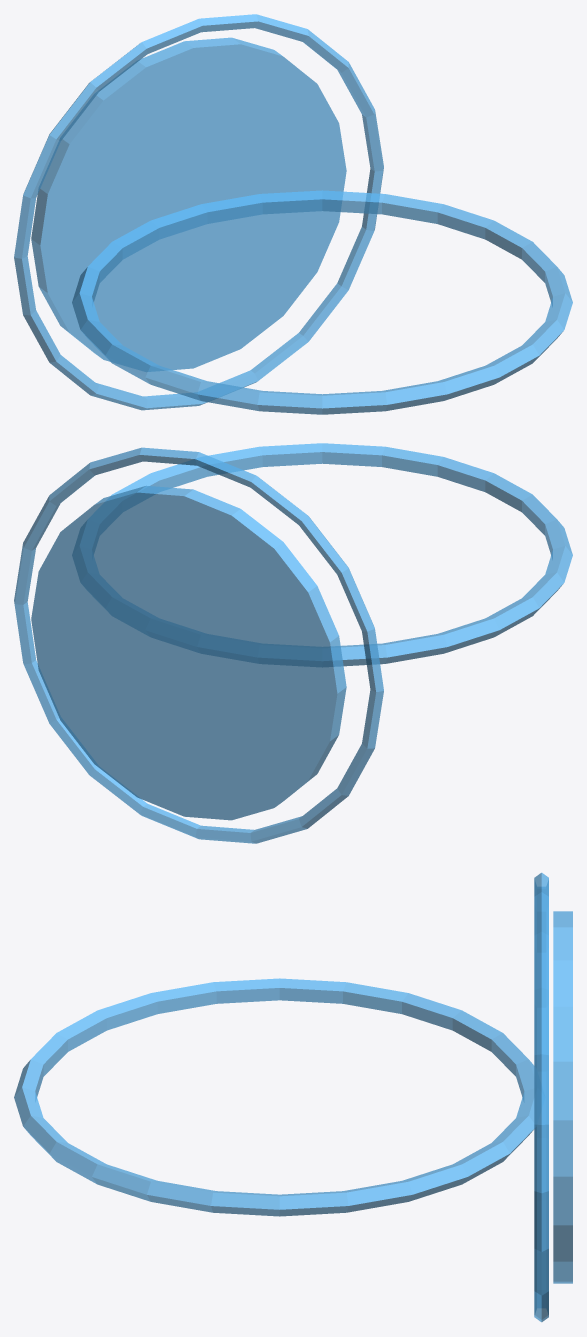
File: 10_underwater_bubble_stream.glb
3 renders of one model, top to bottom at view 1: azimuth 30°, elevation 25°; view 2: azimuth 150°, elevation 25°; view 3: azimuth 270°, elevation 25°, orthographic. The views are drawn at different scales.
Parts seen in each view (by area): view 1: base_disc, outline_ring, base_ring; view 2: base_disc, outline_ring, base_ring; view 3: outline_ring, base_disc, base_ring.
Part boxes in pixels (x1=…): base_disc: x1=31, y1=37, x2=346, y2=371; outline_ring: x1=72, y1=190, x2=572, y2=414; base_ring: x1=14, y1=14, x2=383, y2=410; base_disc: x1=31, y1=485, x2=346, y2=820; outline_ring: x1=72, y1=443, x2=572, y2=666; base_ring: x1=14, y1=447, x2=383, y2=843; outline_ring: x1=14, y1=978, x2=544, y2=1216; base_disc: x1=553, y1=911, x2=572, y2=1283; base_ring: x1=534, y1=872, x2=548, y2=1322.
Bounding box in the file's own units: 1.36 × 1.16 × 1.43.
